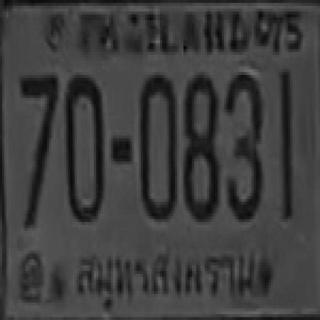N00: (64, 72, 102, 219), (139, 72, 175, 219)
N03: (224, 72, 260, 219)
N07: (19, 72, 55, 213), (19, 72, 55, 173), (19, 72, 55, 161)
N08: (181, 72, 218, 219)
P59: (69, 242, 259, 312)
